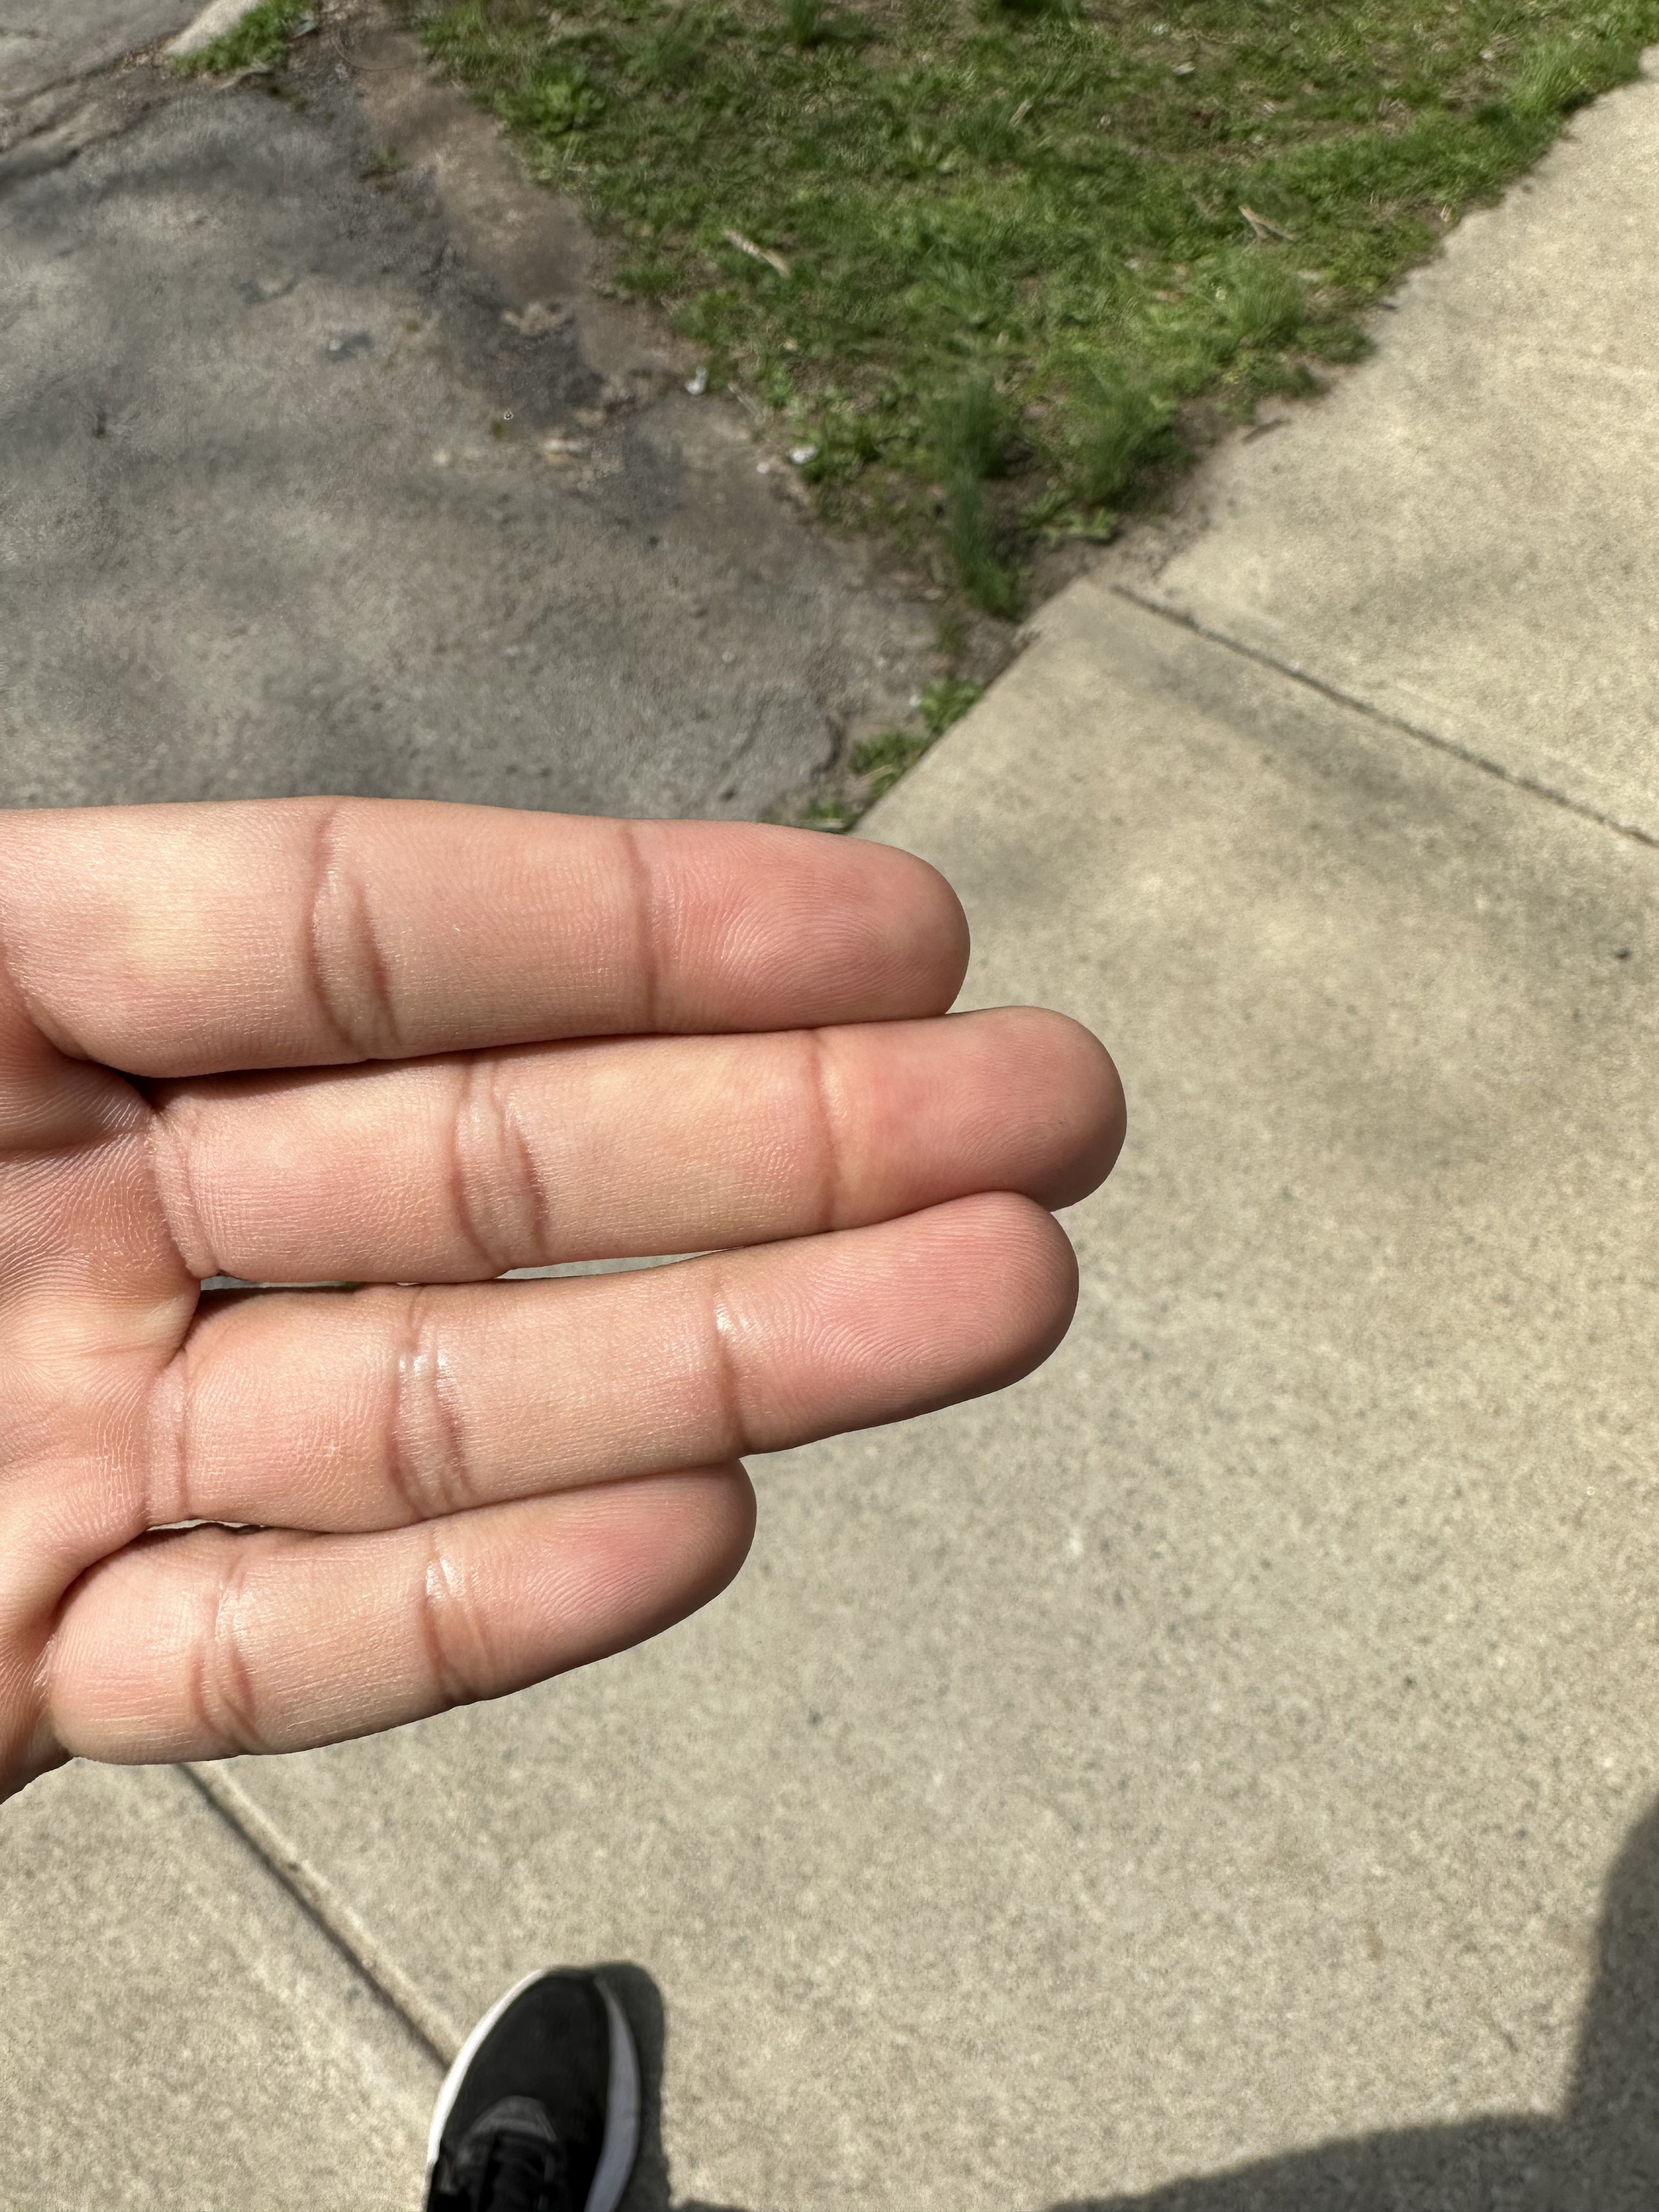finger: (709, 1193, 1129, 1420), (620, 799, 986, 1024), (432, 1460, 796, 1683), (810, 1005, 1168, 1211)
